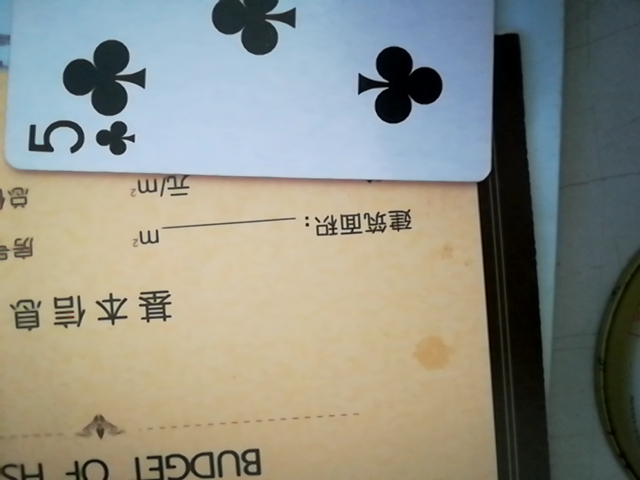mh 5: (7, 0, 511, 178)
